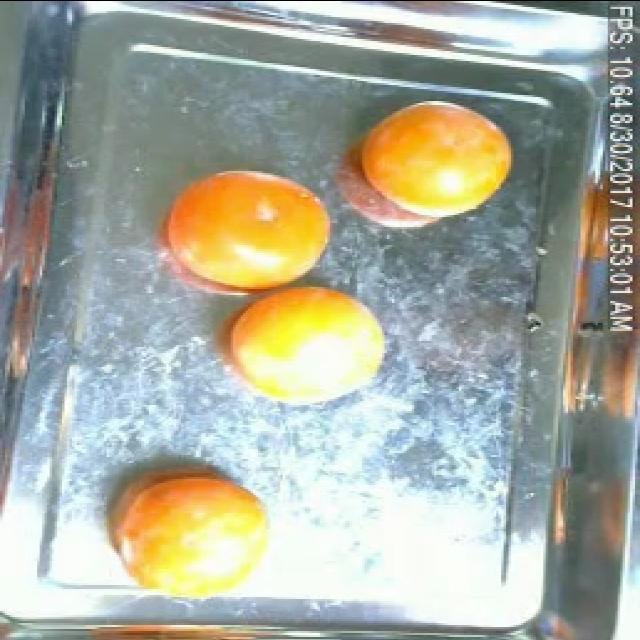Fruit: (90, 450, 288, 616), (198, 272, 406, 424), (334, 88, 528, 238), (154, 156, 348, 296), (534, 458, 586, 558)
